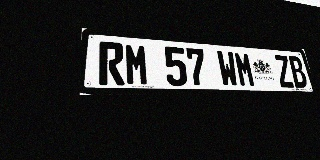5: (164, 46, 188, 86)
7: (184, 48, 209, 87)
B: (287, 56, 309, 88)
M: (124, 43, 149, 86), (233, 52, 256, 87)
R: (99, 41, 125, 85)
W: (216, 50, 239, 87)
Z: (273, 55, 295, 88)
